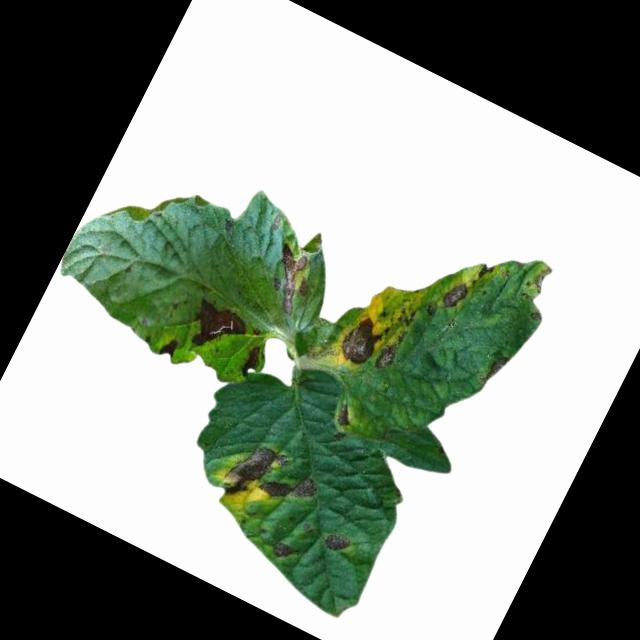Early_blight: (215, 433, 291, 512), (180, 294, 254, 365), (256, 242, 323, 318), (256, 462, 324, 518), (333, 310, 389, 372), (477, 349, 511, 391), (236, 343, 268, 381), (330, 396, 361, 431), (321, 527, 354, 559), (439, 279, 470, 313), (526, 260, 556, 295), (370, 342, 400, 376), (269, 539, 301, 568), (155, 333, 184, 364), (475, 261, 496, 283)
